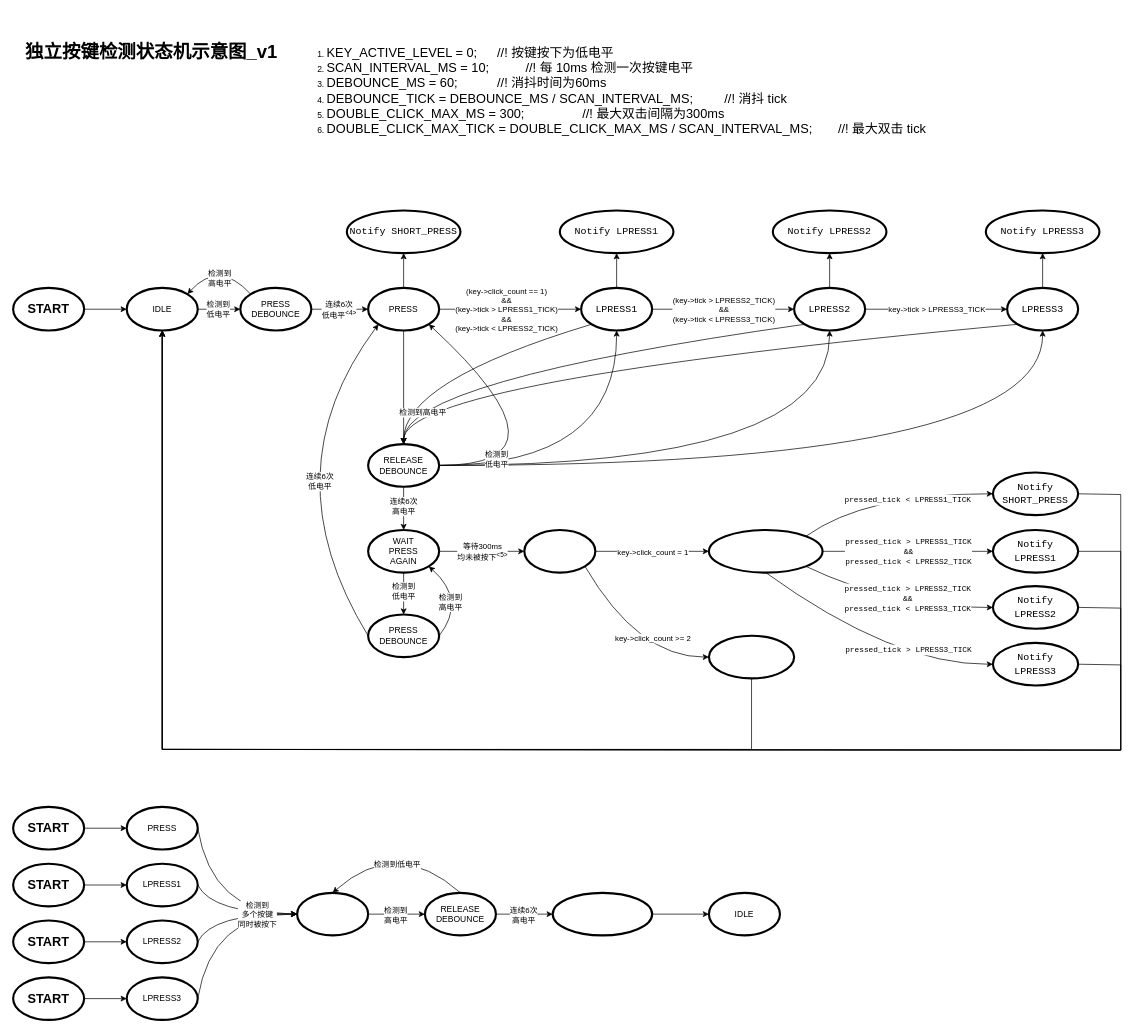
This 1139x1033 diagram has some shape labels left out. Here are the shapes that lost their labels. From the top down, the centre of each, then its label:
point 559,551: 判断 key ->click_count
point 765,551: 判断 pressed_tick
point 751,656: Notify DOUBLE_CLICK
point 332,913: COMBINED CLICK
point 602,913: Notify COMBINED_CLICK
